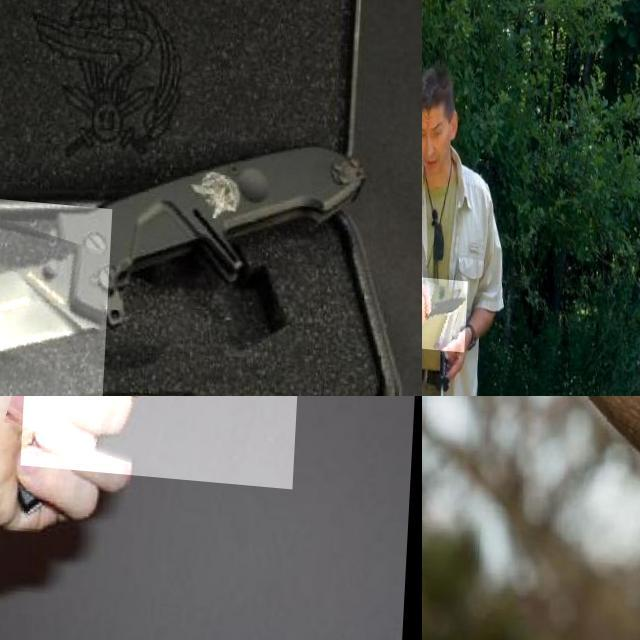-: (25, 396, 311, 585), (0, 182, 146, 396), (422, 268, 472, 345)
